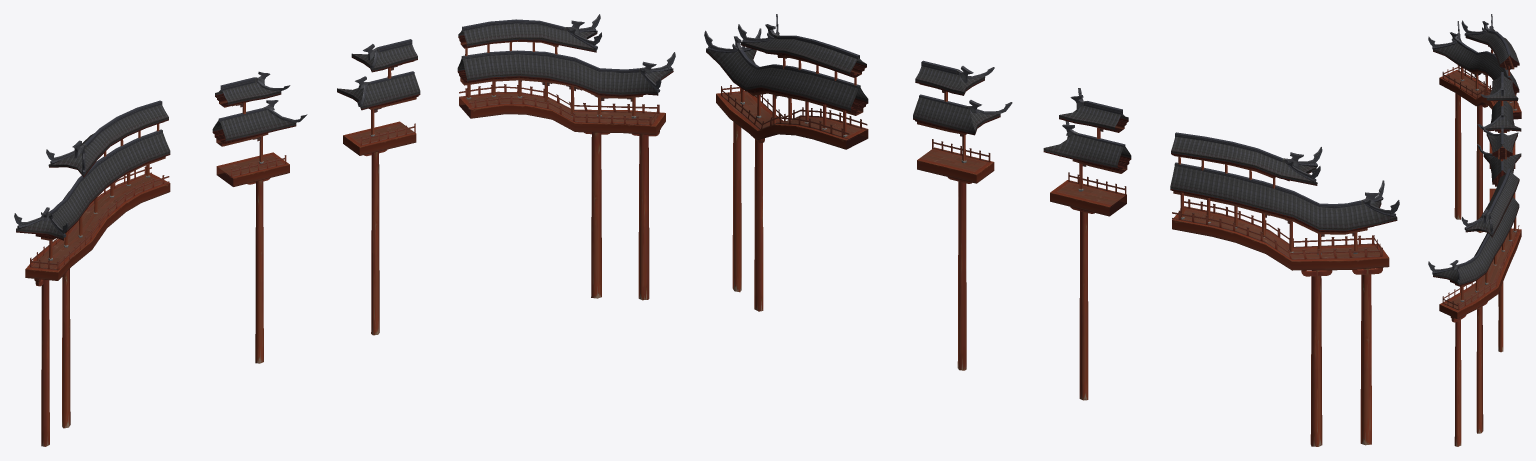
Rendered from ZYbui_CLF_paifang03.FBX.
The picture shows the model from 3 angles, left to right: view 1: azimuth 30°, elevation 25°; view 2: azimuth 150°, elevation 25°; view 3: azimuth 270°, elevation 25°; orthographic projection. The views are drawn at different scales.
Parts seen in each view (by area): view 1: ZYbui_CLF_paifang03; view 2: ZYbui_CLF_paifang03; view 3: ZYbui_CLF_paifang03.
Boxes of the visible parts, x1,y1,x2,y2 form: ZYbui_CLF_paifang03: [14, 14, 675, 446]; ZYbui_CLF_paifang03: [704, 14, 1399, 446]; ZYbui_CLF_paifang03: [1428, 14, 1521, 446].
Size of the model in its own units: 6625 by 2803 by 1044.
